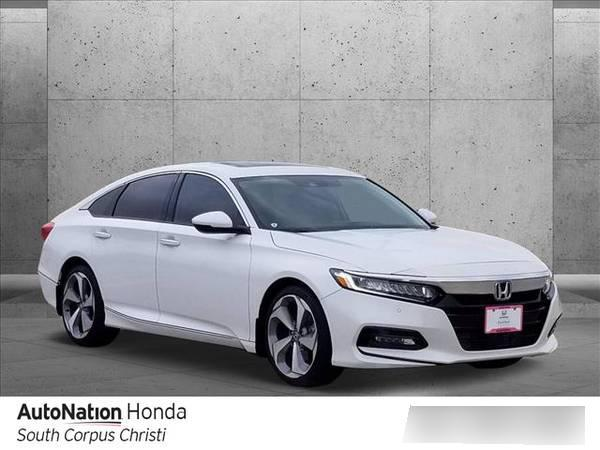Front_Bumper: (319, 288, 465, 366), (534, 289, 563, 353)
Front_Fender: (247, 228, 363, 347)
Front_Right_Door: (158, 226, 254, 349)
Front_Right_Window: (167, 173, 254, 237)
Front_Windshield: (234, 175, 433, 235)
Grille: (431, 276, 556, 359)
Hood: (268, 226, 552, 282)
Rear_Bumper: (38, 270, 60, 315)
Rear_Fender: (38, 182, 129, 282)
Rear_Right_Door: (93, 218, 163, 335)
Rear_Right_Window: (109, 173, 183, 226)
Right_Headlight: (331, 267, 446, 302)
Right_Taillight: (40, 222, 52, 242)
Roof: (57, 160, 367, 230)
Wheel: (260, 286, 329, 381), (57, 266, 102, 342)
